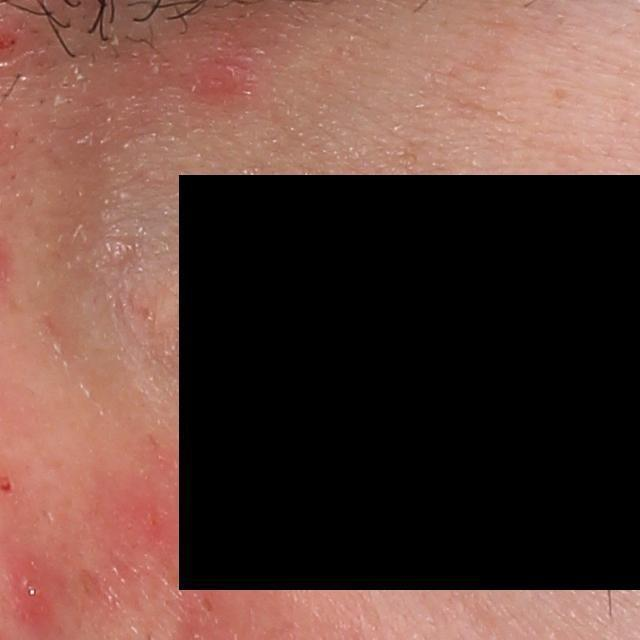papule: (9, 550, 55, 624), (193, 57, 245, 103)
